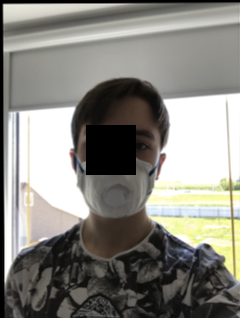with_mask: (71, 116, 163, 219)
